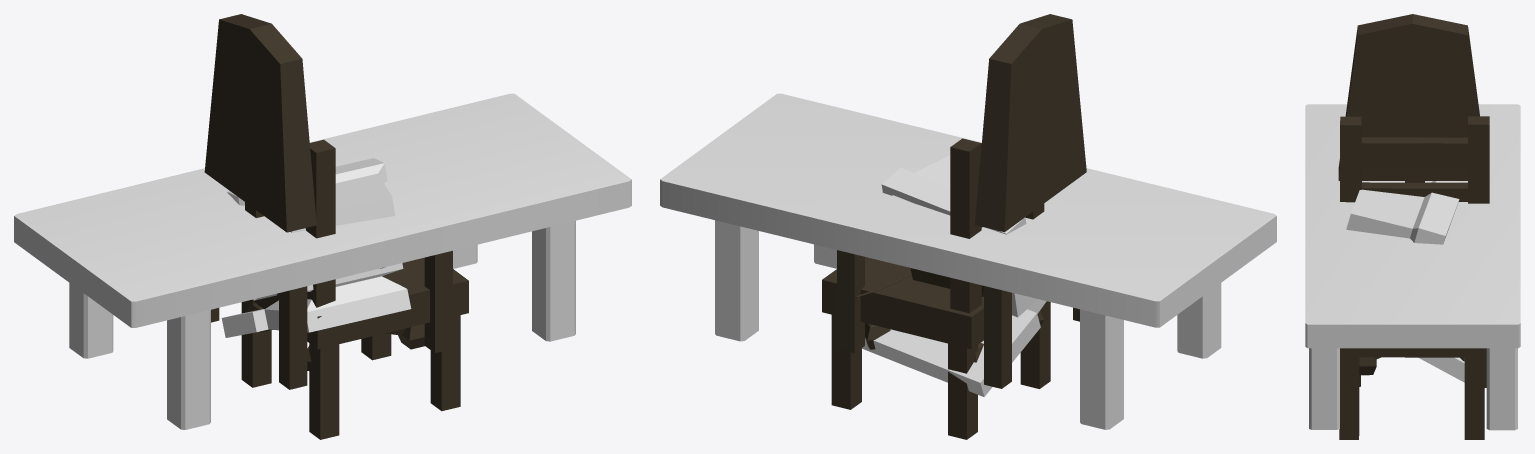
File: Office.fbx
The picture shows the model from 3 angles, left to right: view 1: azimuth 30°, elevation 25°; view 2: azimuth 150°, elevation 25°; view 3: azimuth 270°, elevation 25°; orthographic projection. The views are drawn at different scales.
Visible parts, largest first — view 1: Desktop, DesktopChair, Chair, PCKeyboard, SmallTable; view 2: Desktop, DesktopChair, Chair, PCKeyboard, SmallTable; view 3: Desktop, DesktopChair, Chair, PCKeyboard.
Part boxes in pixels (x1,y1,x2,y2): Desktop: [14, 93, 631, 429]; DesktopChair: [204, 14, 424, 370]; Chair: [241, 139, 468, 439]; PCKeyboard: [221, 158, 411, 337]; SmallTable: [211, 250, 452, 389]; Desktop: [660, 93, 1276, 429]; DesktopChair: [865, 14, 1086, 362]; Chair: [822, 138, 1050, 439]; PCKeyboard: [861, 155, 1046, 396]; SmallTable: [837, 250, 1079, 388]; Desktop: [1305, 104, 1520, 430]; DesktopChair: [1338, 14, 1479, 375]; Chair: [1339, 116, 1489, 439]; PCKeyboard: [1346, 181, 1464, 382].
Size of the model in its own units: 2.33 by 1.73 by 0.964.
